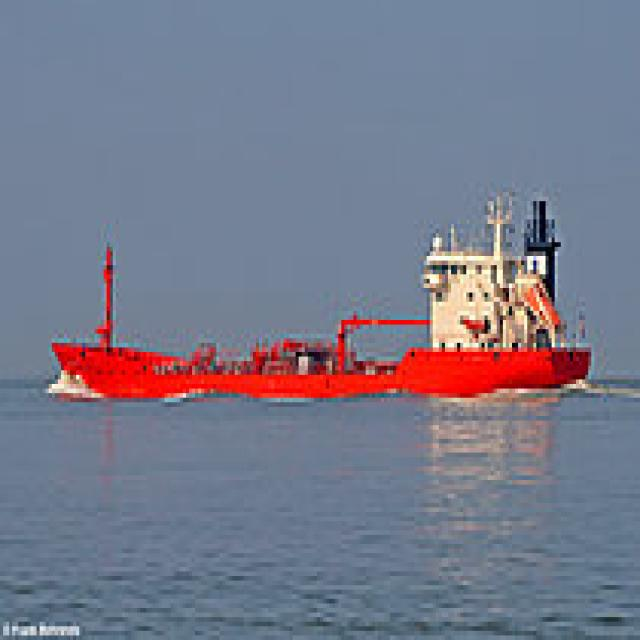Tanker: (46, 183, 588, 398)
